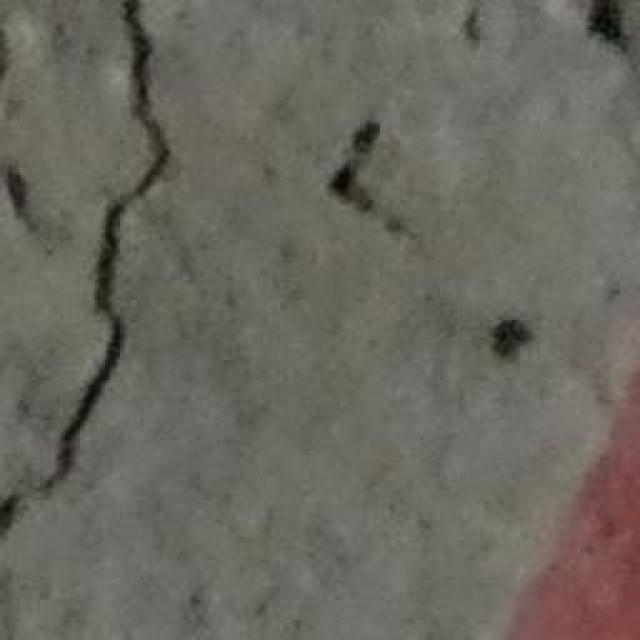Annular: (313, 113, 539, 372), (595, 4, 640, 72)
Longitudinal: (18, 0, 174, 503)
